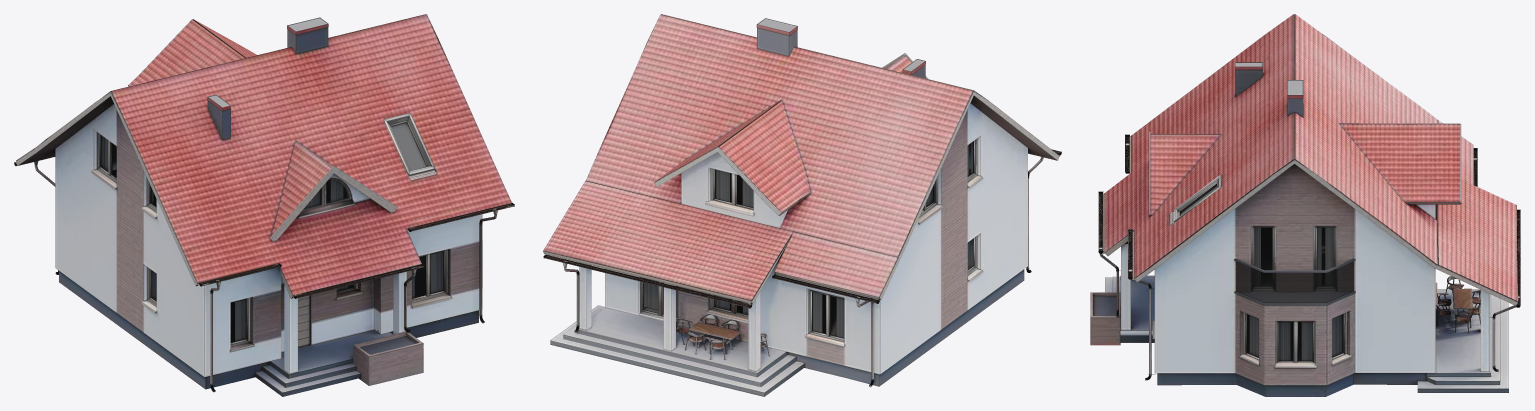
File: final_house.glb
3 views of the same model, side by side, from view 1: azimuth 30°, elevation 25°; view 2: azimuth 150°, elevation 25°; view 3: azimuth 270°, elevation 25° (orthographic). The views are drawn at different scales.
Visible parts, largest first — view 1: Object029_Material #2125644136_0, Object030_CRN.cgaxis_models_46_15_03_0, Object030_CRN.cgaxis_models_46_14_03_0, Line017_Material #2125644137_0; view 2: Object029_Material #2125644136_0, Object030_CRN.cgaxis_models_46_15_03_0, Line017_Material #2125644137_0; view 3: Object029_Material #2125644136_0, Object030_CRN.Solid Glass_0, Object030_CRN.cgaxis_models_46_14_03_0, Line017_Material #2125644137_0, Object030_CRN.cgaxis_models_46_15_03_0.
Part boxes in pixels (x1=…): Object029_Material #2125644136_0: x1=14, y1=14, x2=514, y2=396; Object030_CRN.cgaxis_models_46_15_03_0: x1=100, y1=135, x2=443, y2=297; Object030_CRN.cgaxis_models_46_14_03_0: x1=150, y1=122, x2=426, y2=342; Line017_Material #2125644137_0: x1=104, y1=137, x2=443, y2=340; Object029_Material #2125644136_0: x1=543, y1=14, x2=1061, y2=396; Object030_CRN.cgaxis_models_46_15_03_0: x1=643, y1=169, x2=933, y2=337; Line017_Material #2125644137_0: x1=644, y1=145, x2=970, y2=337; Object029_Material #2125644136_0: x1=1090, y1=14, x2=1520, y2=396; Object030_CRN.Solid Glass_0: x1=1236, y1=261, x2=1353, y2=302; Object030_CRN.cgaxis_models_46_14_03_0: x1=1180, y1=184, x2=1343, y2=357; Line017_Material #2125644137_0: x1=1249, y1=227, x2=1342, y2=360; Object030_CRN.cgaxis_models_46_15_03_0: x1=1278, y1=322, x2=1312, y2=360.
Bounding box in the file's own units: 11.49 × 9.11 × 13.96.
Materials: 5 (2 with a texture image).
